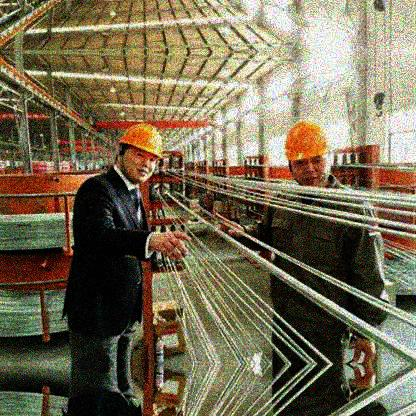helmet: (282, 122, 338, 186), (119, 124, 163, 180)
